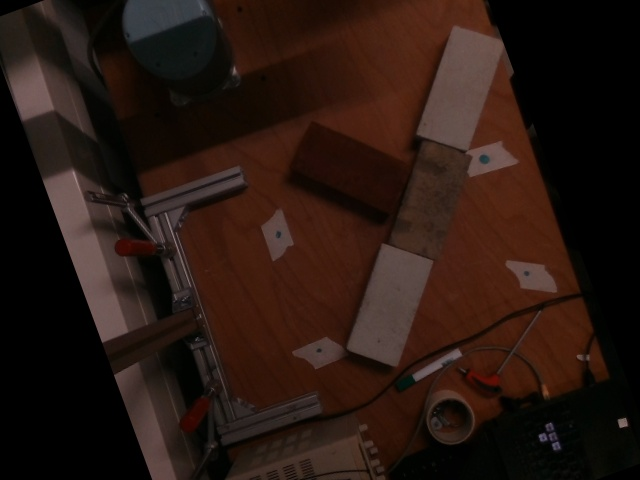brick: (289, 123, 413, 213), (348, 247, 430, 366), (419, 30, 501, 149), (391, 139, 472, 258)
